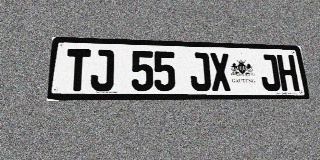5: (132, 51, 154, 91), (154, 51, 176, 91)
H: (276, 55, 299, 91)
J: (90, 49, 114, 91), (189, 52, 211, 91), (258, 54, 281, 91)
T: (65, 49, 91, 91)
X: (209, 53, 232, 91)
